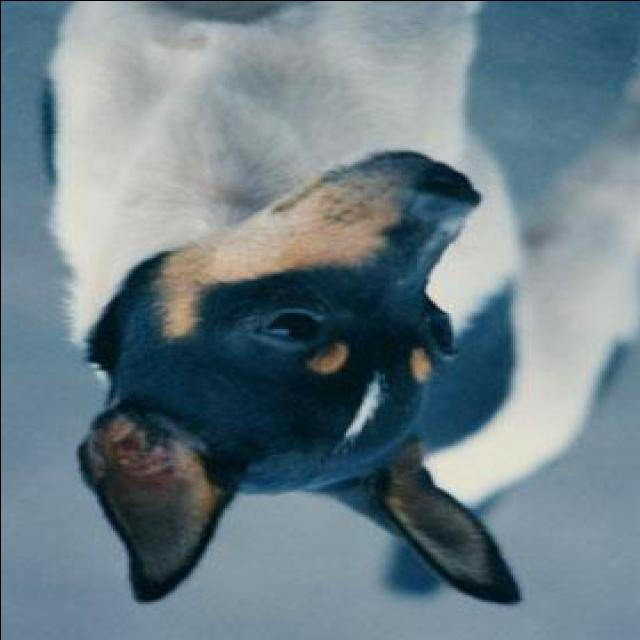toy_terrier: (41, 2, 640, 606)
